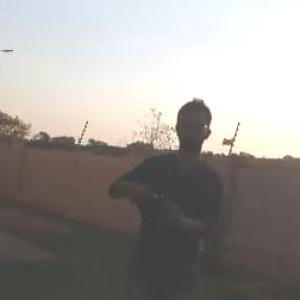follow: (104, 88, 230, 299)
